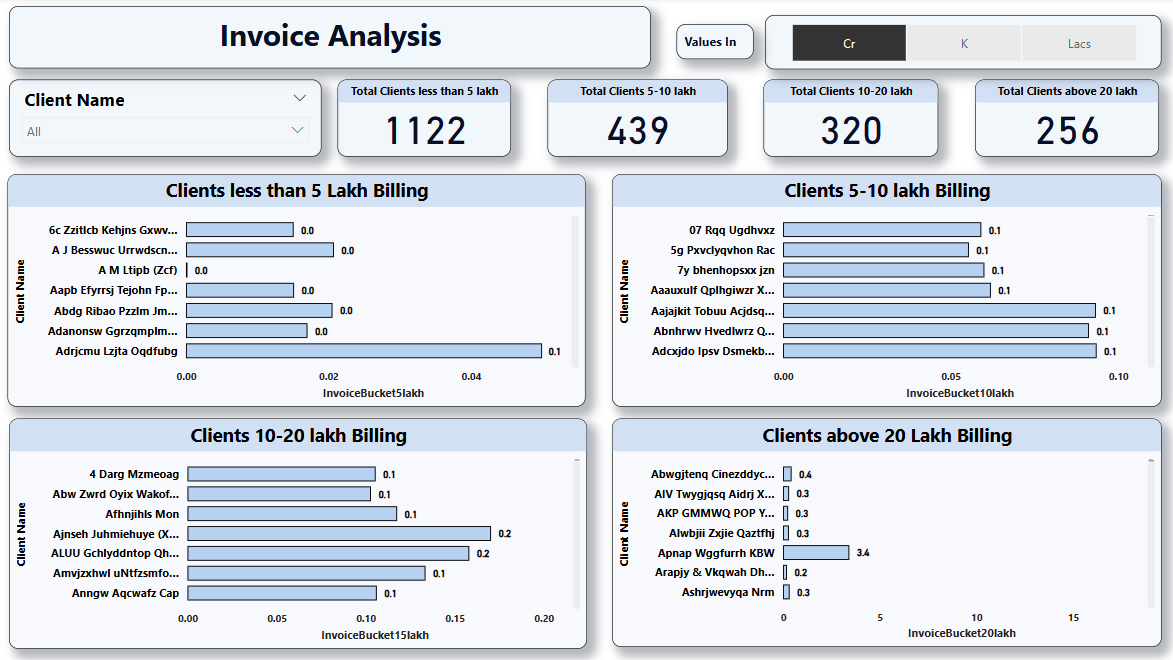

This screenshot's page, from the dashboard's own definition file:
{"tool":"powerbi","page":{"name":"Invoice Analysis","canvas":[1280,720],"ordinal":3},"visuals":[{"type":"textbox","box":[16.1,10.2,692.7,67.2],"z":0},{"type":"clusteredBarChart","title":"Clients less than 5 Lakh Billing","fields":{"Category":["Invoices Table.Client Name"],"Y":["Invoices Table.InvoiceBucket5lakh"]},"box":[14.6,191.5,624,251.4],"z":1000},{"type":"card","title":"Total Clients less than 5 lakh","fields":{"Values":["Invoices Table.CountClinets5lakh"]},"box":[370.7,89.6,187.1,83.3],"z":2000},{"type":"clusteredBarChart","title":"Clients 5-10 lakh Billing","fields":{"Category":["Invoices Table.Client Name"],"Y":["Invoices Table.InvoiceBucket10lakh"]},"box":[666.4,191.5,593.4,251.4],"z":3000},{"type":"card","title":"Total Clients 5-10 lakh","fields":{"Values":["Invoices Table.CountClients5to10lakh"]},"box":[597.3,89.6,194.4,83.3],"z":4000},{"type":"clusteredBarChart","title":"Clients 10-20 lakh Billing","fields":{"Category":["Invoices Table.Client Name"],"Y":["Invoices Table.InvoiceBucket15lakh"]},"box":[16.1,454.5,624,248.4],"z":5000},{"type":"card","title":"Total Clients 10-20 lakh","fields":{"Values":["Invoices Table.CountClients10to15lakh"]},"box":[831.1,89.6,188.5,83.3],"z":6000},{"type":"card","title":"Total Clients above 20 lakh","fields":{"Values":["Invoices Table.CountClients15to20lakh"]},"box":[1059.1,89.6,198.8,83.3],"z":7000},{"type":"clusteredBarChart","title":"Clients above 20 Lakh Billing","fields":{"Category":["Invoices Table.Client Name"],"Y":["Invoices Table.InvoiceBucket20lakh"]},"box":[666.4,454.5,593.4,247],"z":8000},{"type":"slicer","fields":{"Values":["Credit Note.Client Name"]},"box":[16.1,89.1,337.6,83.3],"z":9000},{"type":"slicer","fields":{"Values":["Currency_Conversion.Currency"]},"box":[831.6,19,428.2,58.5],"z":10000},{"type":"textbox","box":[736.6,29.2,83.3,38],"z":11000}]}

Visuals, with their boxes in screenshot pixels (x1, y1, x2, y2), scaled from the page's 1280x720 canvas onto the 1173x660 screenshot:
textbox: region(15, 9, 650, 71)
"Clients less than 5 Lakh Billing" clusteredBarChart: region(13, 176, 585, 406)
"Total Clients less than 5 lakh" card: region(340, 82, 511, 158)
"Clients 5-10 lakh Billing" clusteredBarChart: region(611, 176, 1154, 406)
"Total Clients 5-10 lakh" card: region(547, 82, 726, 158)
"Clients 10-20 lakh Billing" clusteredBarChart: region(15, 417, 587, 644)
"Total Clients 10-20 lakh" card: region(762, 82, 934, 158)
"Total Clients above 20 lakh" card: region(971, 82, 1153, 158)
"Clients above 20 Lakh Billing" clusteredBarChart: region(611, 417, 1154, 643)
slicer - Credit Note.Client Name: region(15, 82, 324, 158)
slicer - Currency_Conversion.Currency: region(762, 17, 1154, 71)
textbox: region(675, 27, 751, 62)
